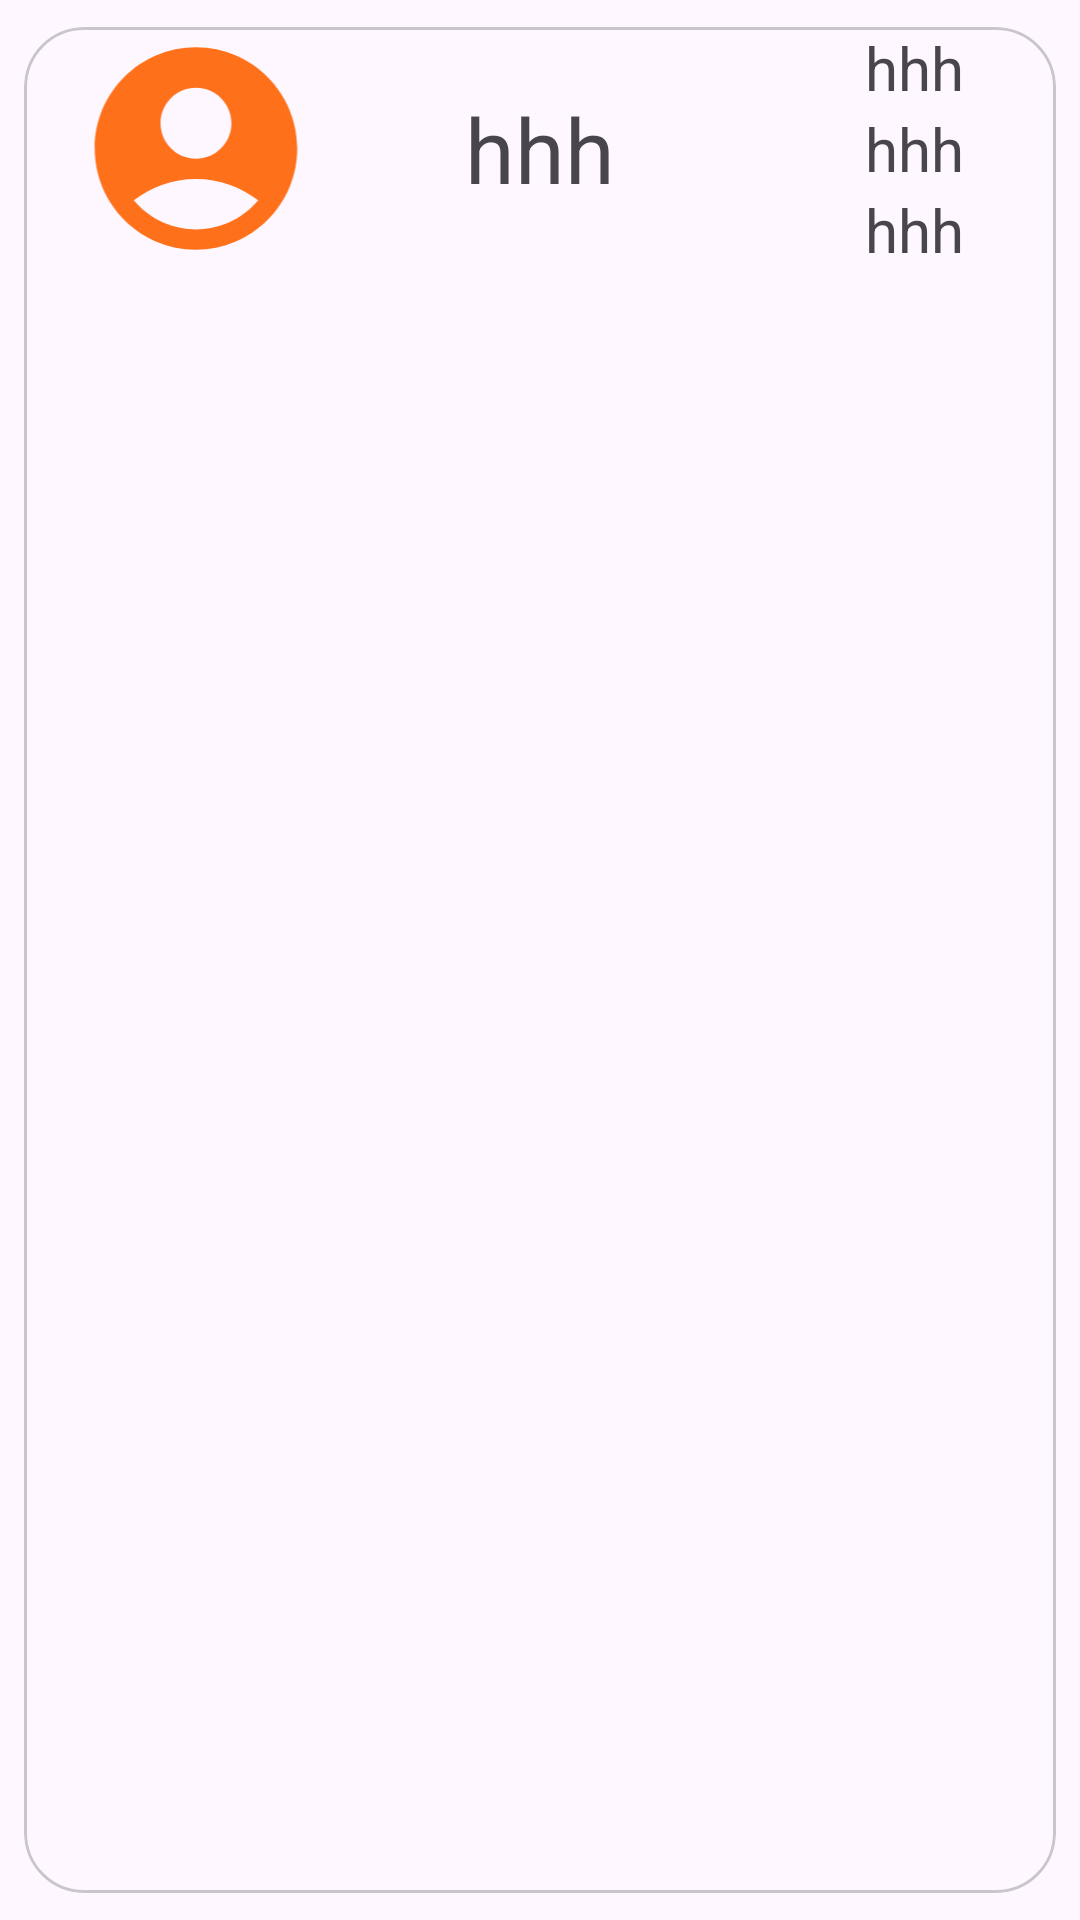

Where to tap for icons on this 1080px x 1920px app screen, as (x=x, y=y):
person: (x=196, y=148)
